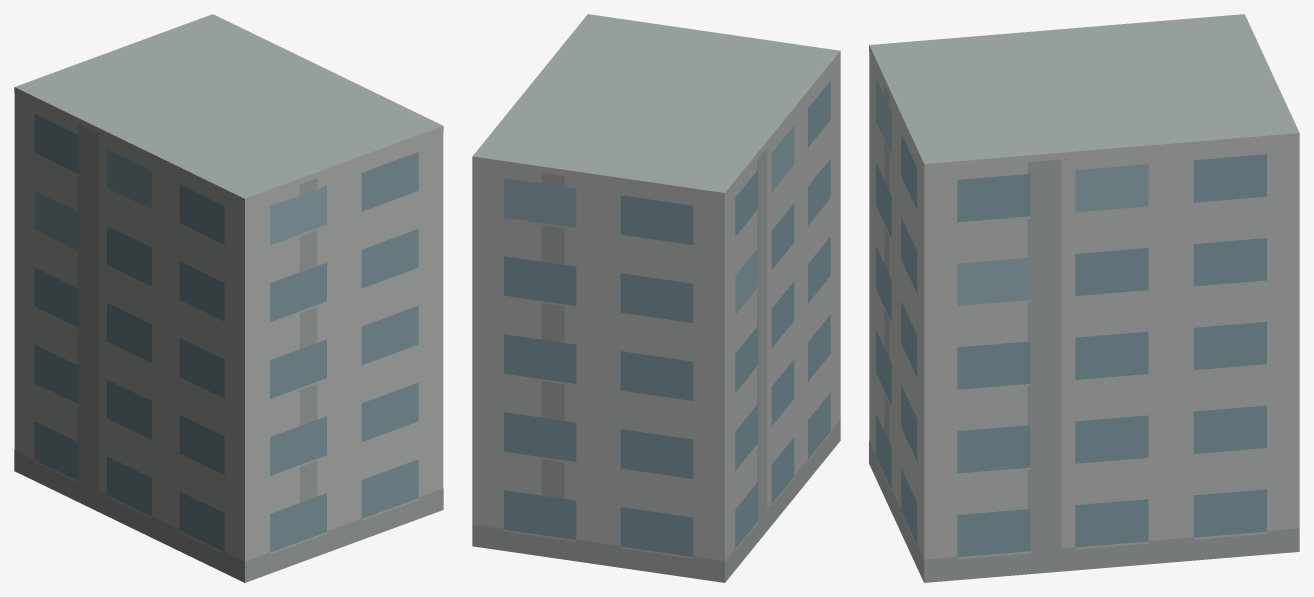
File: residential-22edb316-3870-4bd4-981c-7d82c88fdeae.glb
3 views of the same model, side by side, from view 1: azimuth 30°, elevation 25°; view 2: azimuth 150°, elevation 25°; view 3: azimuth 270°, elevation 25° (orthographic). The views are drawn at different scales.
Visible parts, largest first — view 1: residential-22edb316-3870-4bd4-981c-7d82c88fdeae.tmp; view 2: residential-22edb316-3870-4bd4-981c-7d82c88fdeae.tmp; view 3: residential-22edb316-3870-4bd4-981c-7d82c88fdeae.tmp.
Part boxes in pixels (<box>): residential-22edb316-3870-4bd4-981c-7d82c88fdeae.tmp: <box>14,14,443,582</box>; residential-22edb316-3870-4bd4-981c-7d82c88fdeae.tmp: <box>472,14,840,582</box>; residential-22edb316-3870-4bd4-981c-7d82c88fdeae.tmp: <box>869,14,1299,582</box>.
Size of the model in its own units: 11.73 by 15.25 by 14.22.
